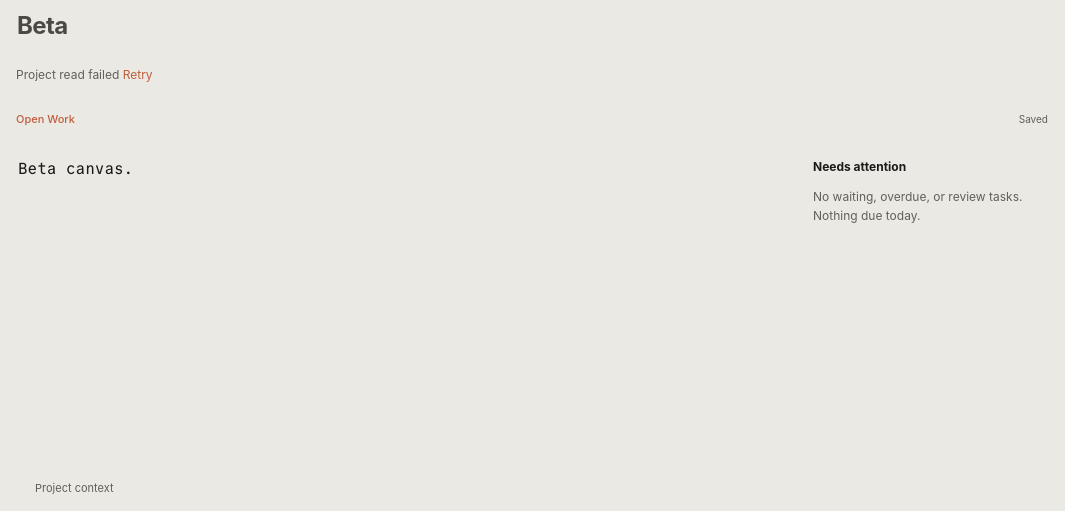
Test: Home in Main › ignores a late Project result and retries a failed read
The width and height of the screenshot is (1065, 511).
Click the button "Retry" at (138, 75), box x1=123 y1=61 x2=153 y2=89
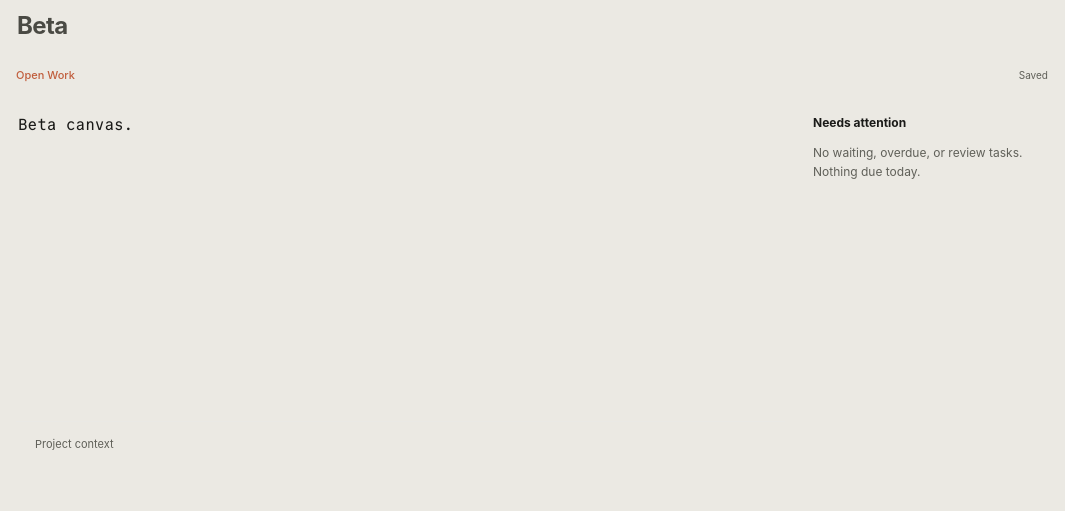
Expected: the text "Project read failed" is gone
